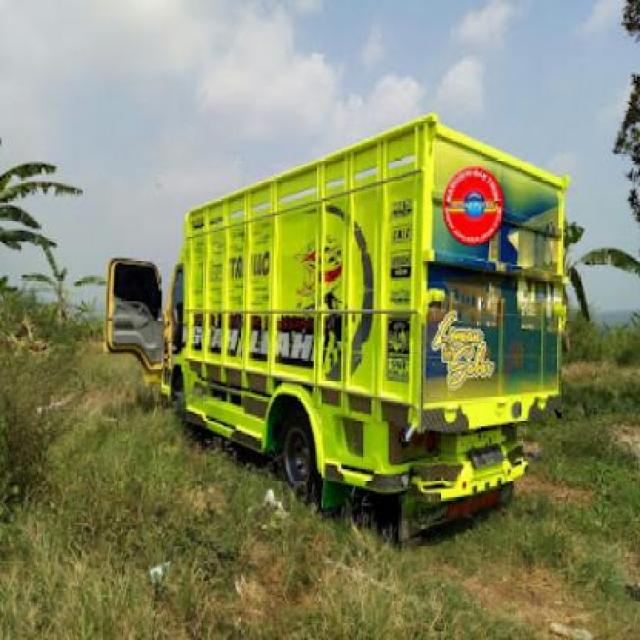truck: (103, 110, 571, 516)
